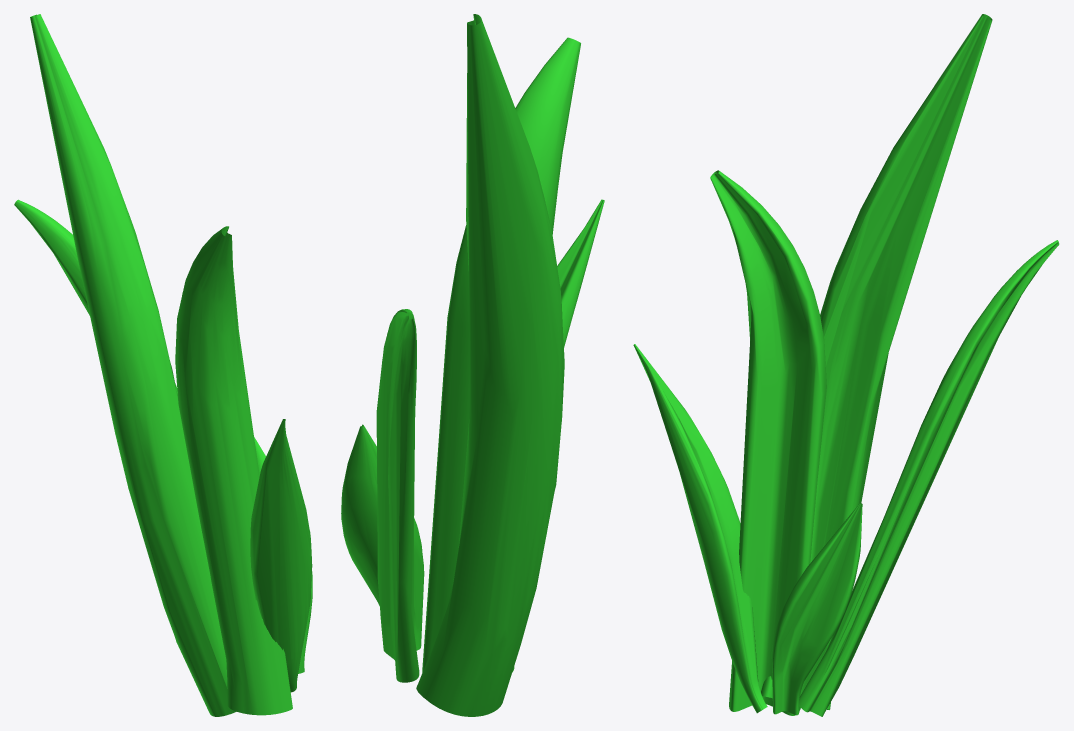
Rendered from grass.fbx.
The picture shows the model from 3 angles, left to right: view 1: azimuth 30°, elevation 25°; view 2: azimuth 150°, elevation 25°; view 3: azimuth 270°, elevation 25°; orthographic projection. The views are drawn at different scales.
Visible parts, largest first — view 1: NurbsPath.001; view 2: NurbsPath.001; view 3: NurbsPath.001.
Part boxes in pixels (x1,y1,x2,y2): NurbsPath.001: (14,14,312,716); NurbsPath.001: (341,14,604,716); NurbsPath.001: (633,14,1059,716).
Bounding box in the file's own units: 22.66 × 75.86 × 44.98.
